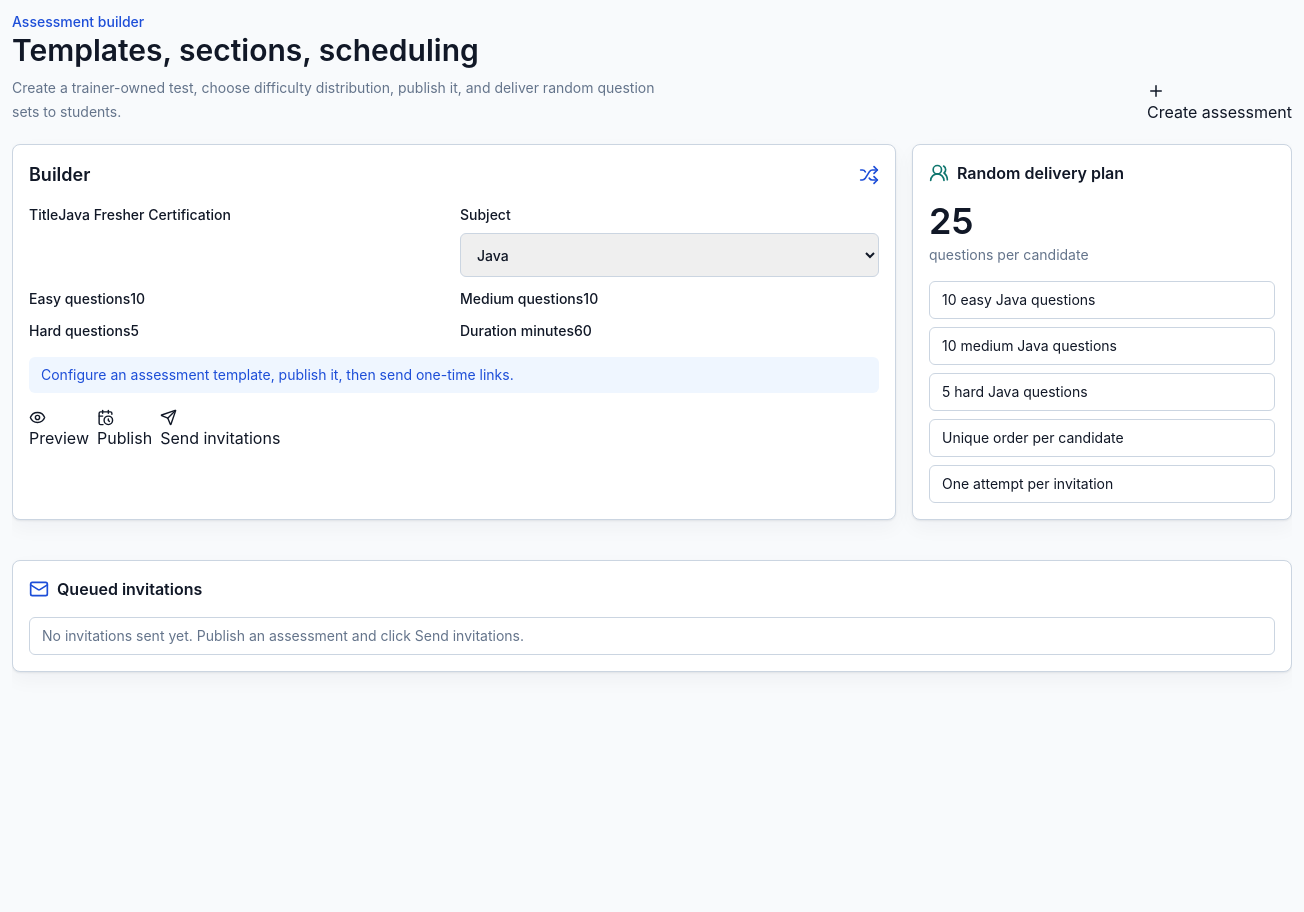
Test case: AssessmentWorkbench publish flow › shows the backend's real send summary, not a count derived from candidates selected
Click the button "Publish" at {"x": 125, "y": 430}, box x1=97 y1=409 x2=152 y2=450
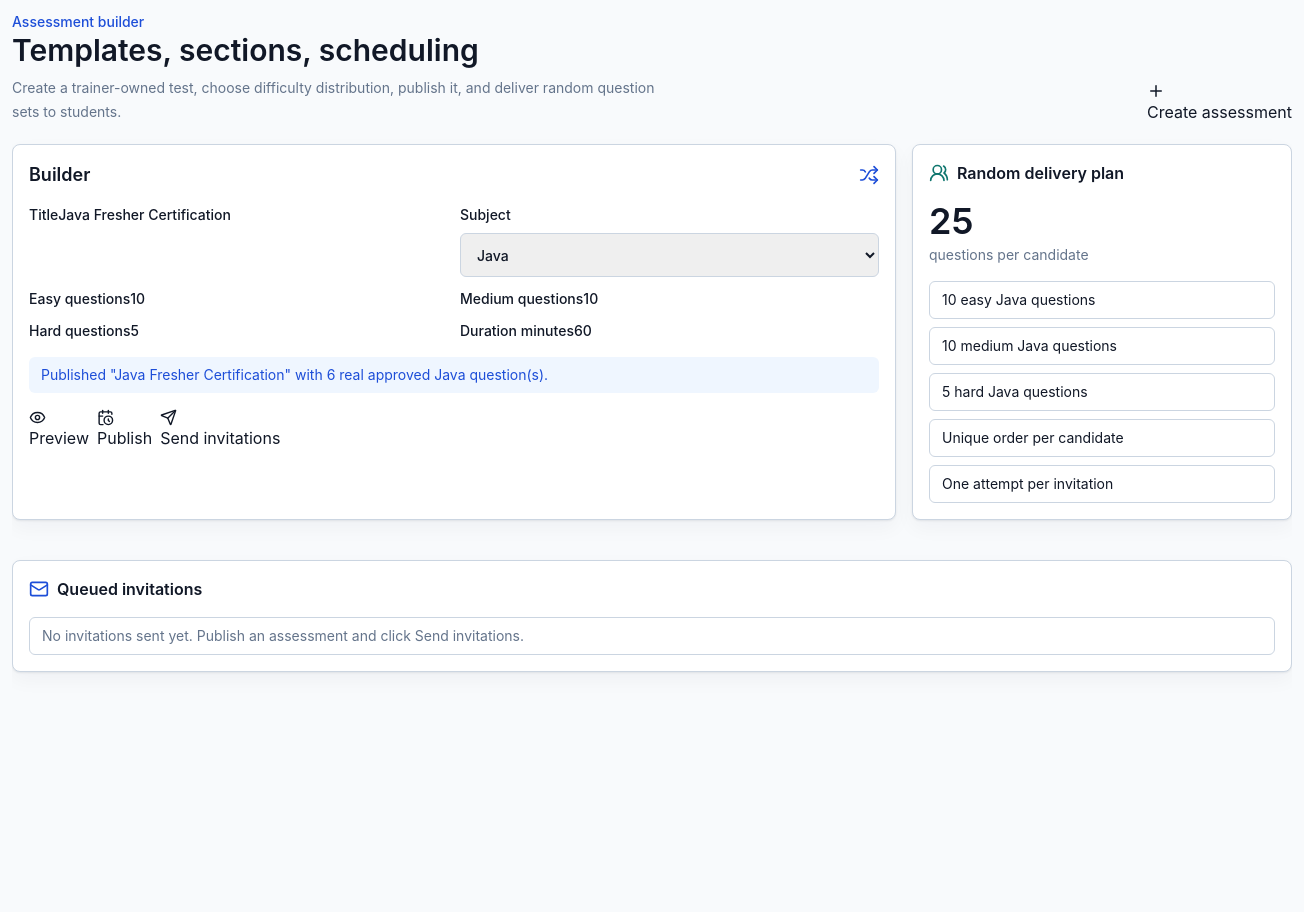
Click the button "Send invitations" at {"x": 220, "y": 430}, box x1=160 y1=409 x2=280 y2=450
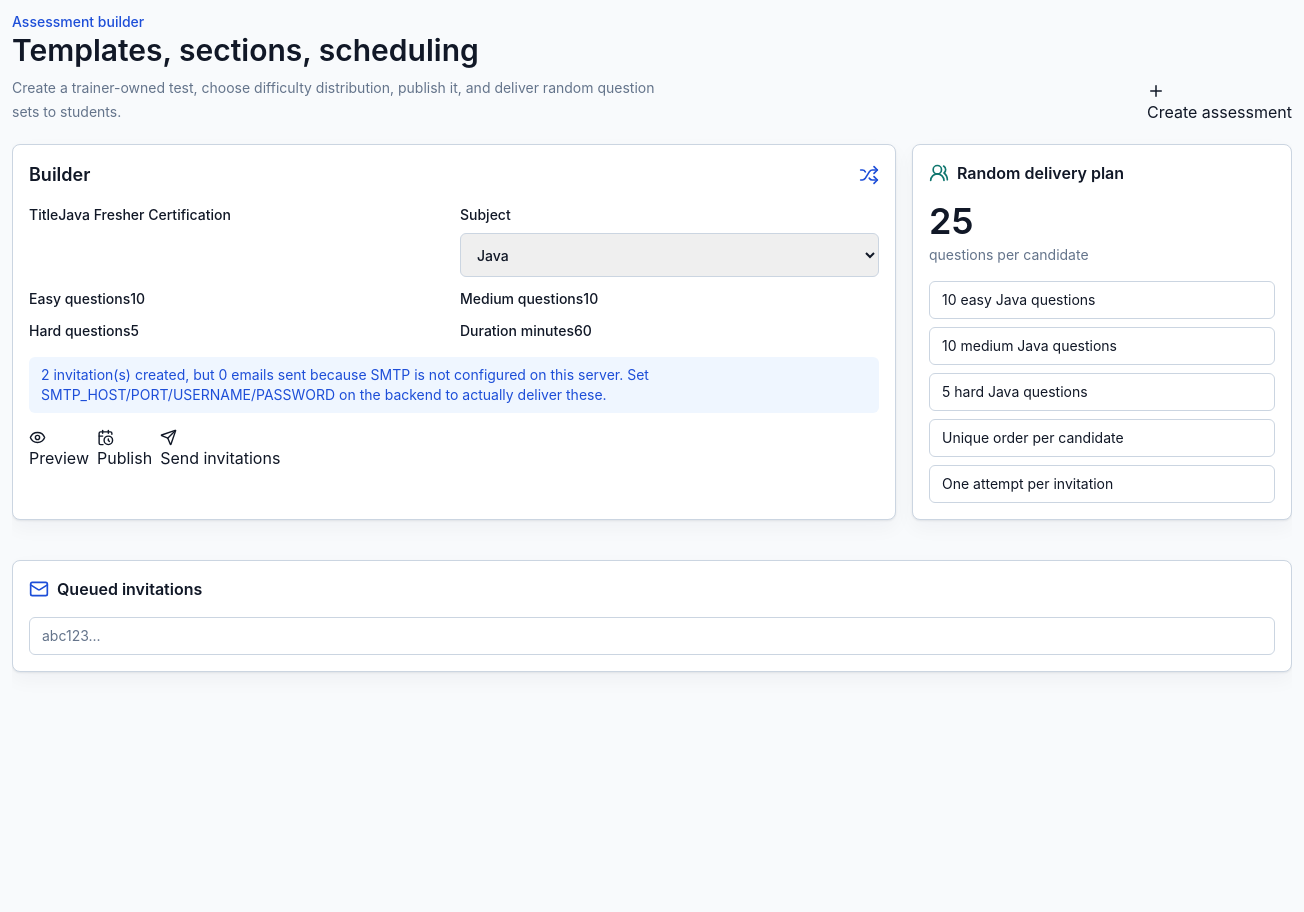
Expected: the text "0 emails sent because SMTP is not configured" is shown, x1=41 y1=366 x2=649 y2=403
